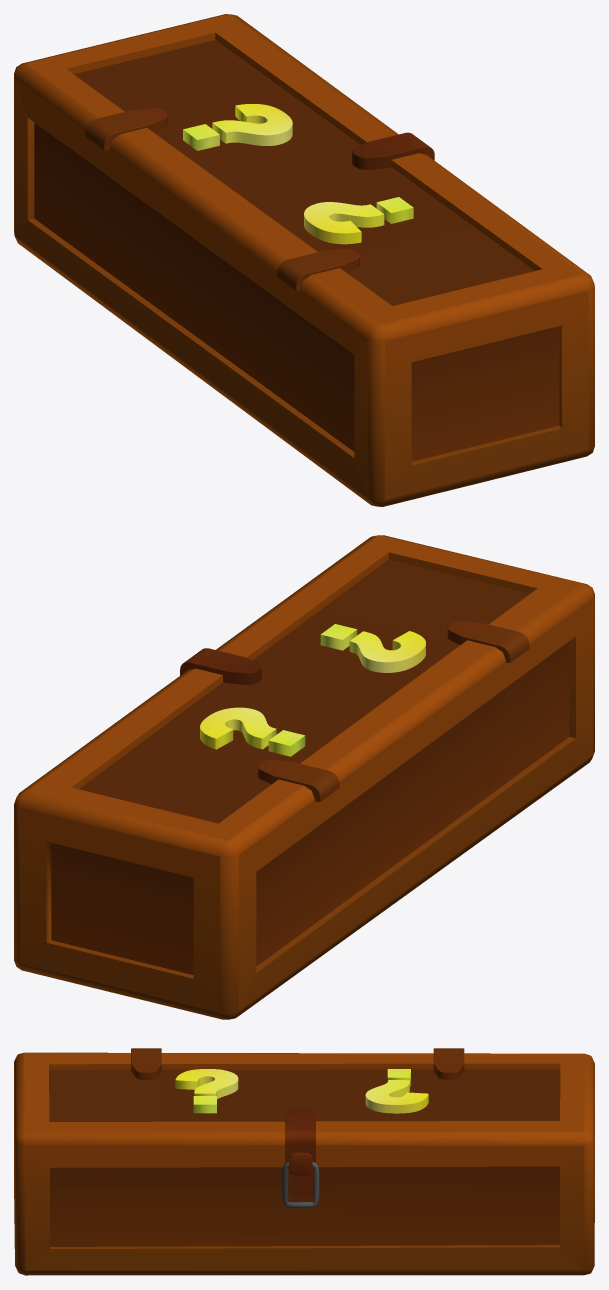
File: mysterybox.fbx
The picture shows the model from 3 angles, top to bottom: view 1: azimuth 30°, elevation 25°; view 2: azimuth 150°, elevation 25°; view 3: azimuth 270°, elevation 25°; orthographic projection. The views are drawn at different scales.
Parts seen in each view (by area): view 1: XWoodCrate.001, Text.001, Cube.006, Cube.003; view 2: XWoodCrate.001, Text.001, Cube.006, Cube.003; view 3: XWoodCrate.001, Text.001, Cube.003, Cube.006, Cube.004.
Part boxes in pixels (x1=…): XWoodCrate.001: x1=14, y1=14, x2=594, y2=506; Text.001: x1=183, y1=104, x2=413, y2=244; Cube.006: x1=85, y1=108, x2=359, y2=290; Cube.003: x1=352, y1=132, x2=434, y2=169; XWoodCrate.001: x1=14, y1=535, x2=594, y2=1019; Text.001: x1=200, y1=624, x2=425, y2=756; Cube.006: x1=258, y1=621, x2=529, y2=801; Cube.003: x1=180, y1=648, x2=261, y2=684; XWoodCrate.001: x1=14, y1=1052, x2=594, y2=1275; Text.001: x1=175, y1=1069, x2=428, y2=1113; Cube.003: x1=285, y1=1107, x2=315, y2=1196; Cube.006: x1=131, y1=1048, x2=464, y2=1079; Cube.004: x1=282, y1=1162, x2=319, y2=1208.
Bounding box in the file's own units: 318 × 234 × 837.
